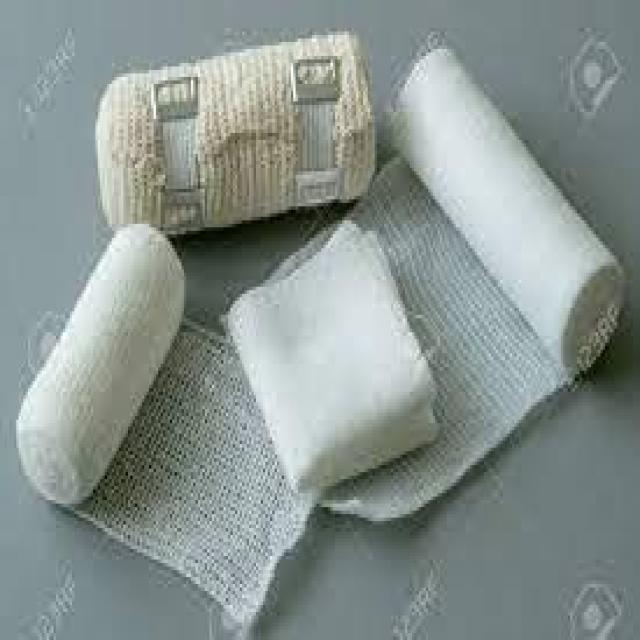B3: (374, 28, 640, 377), (14, 210, 200, 559), (79, 31, 384, 238)
